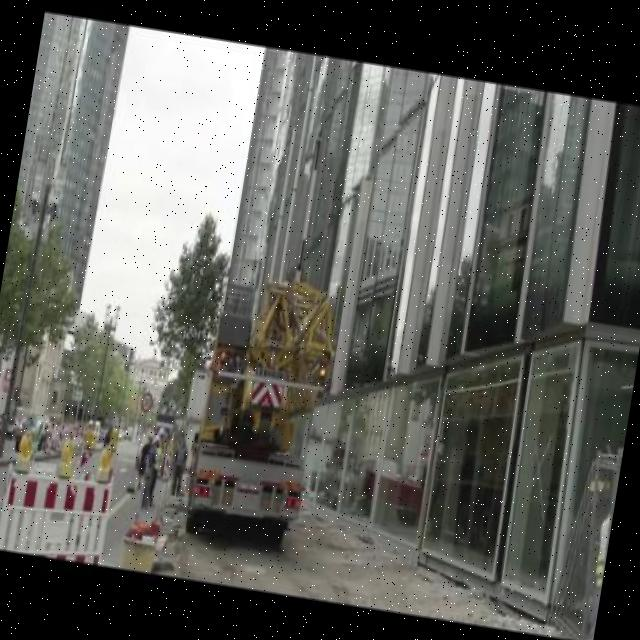Mobile Crane: (176, 261, 344, 554)
